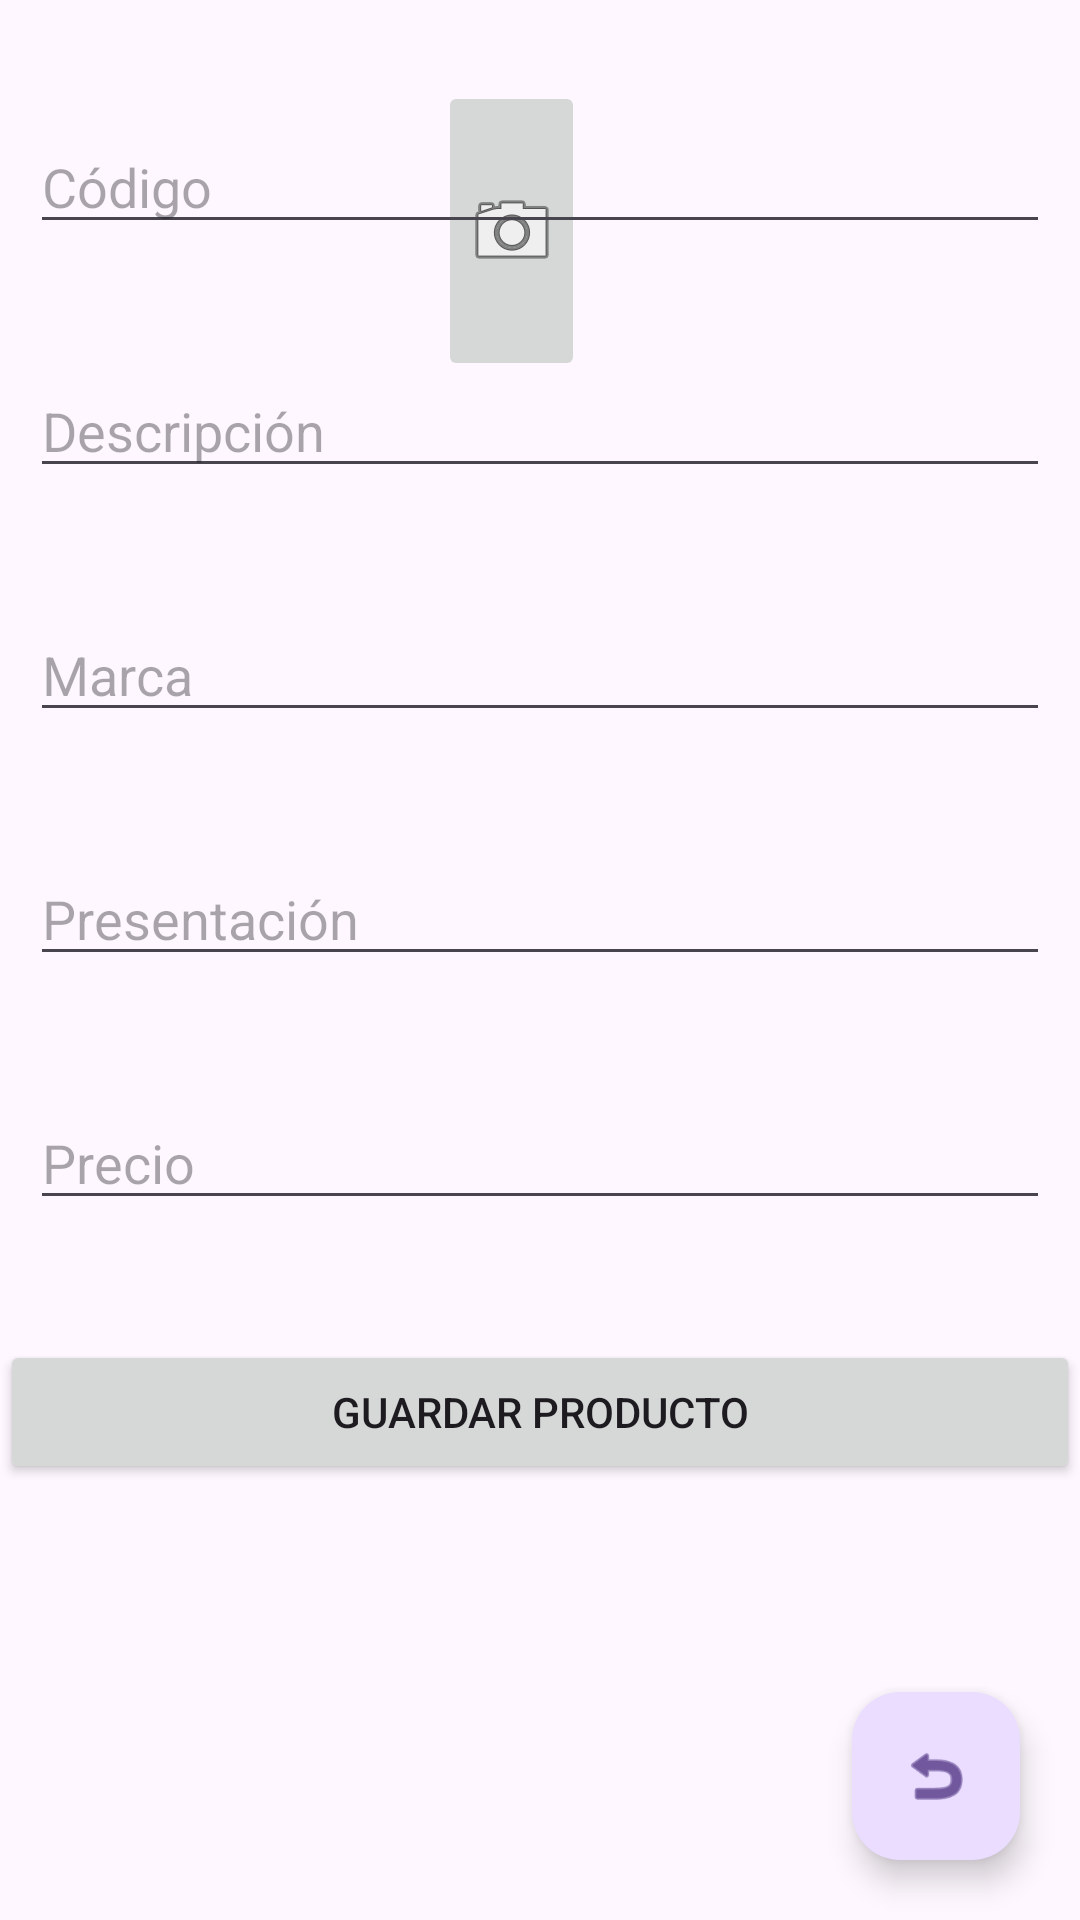

Named icons in this screenshot (1080 × 1920) and their centers, (x=x, y=y):
camera: (x=511, y=231)
revert: (x=936, y=1776)
